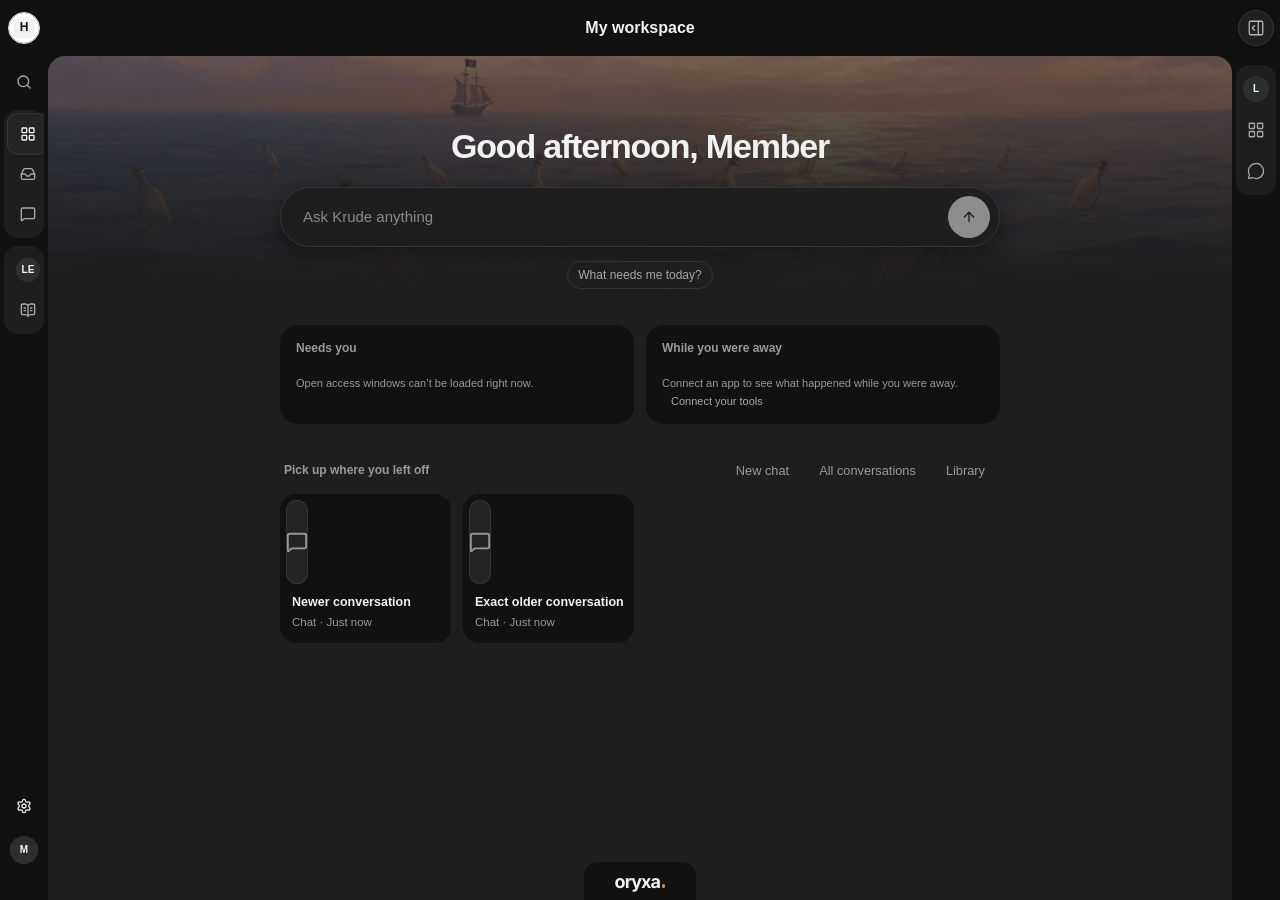
Test case: Home's public primary-chat integration › clears selected chat activity and panel draft when viewer pending changes
Click the button "Exact older conversation Chat · Just now" at (548, 569), box left=463, top=494, right=634, bottom=643
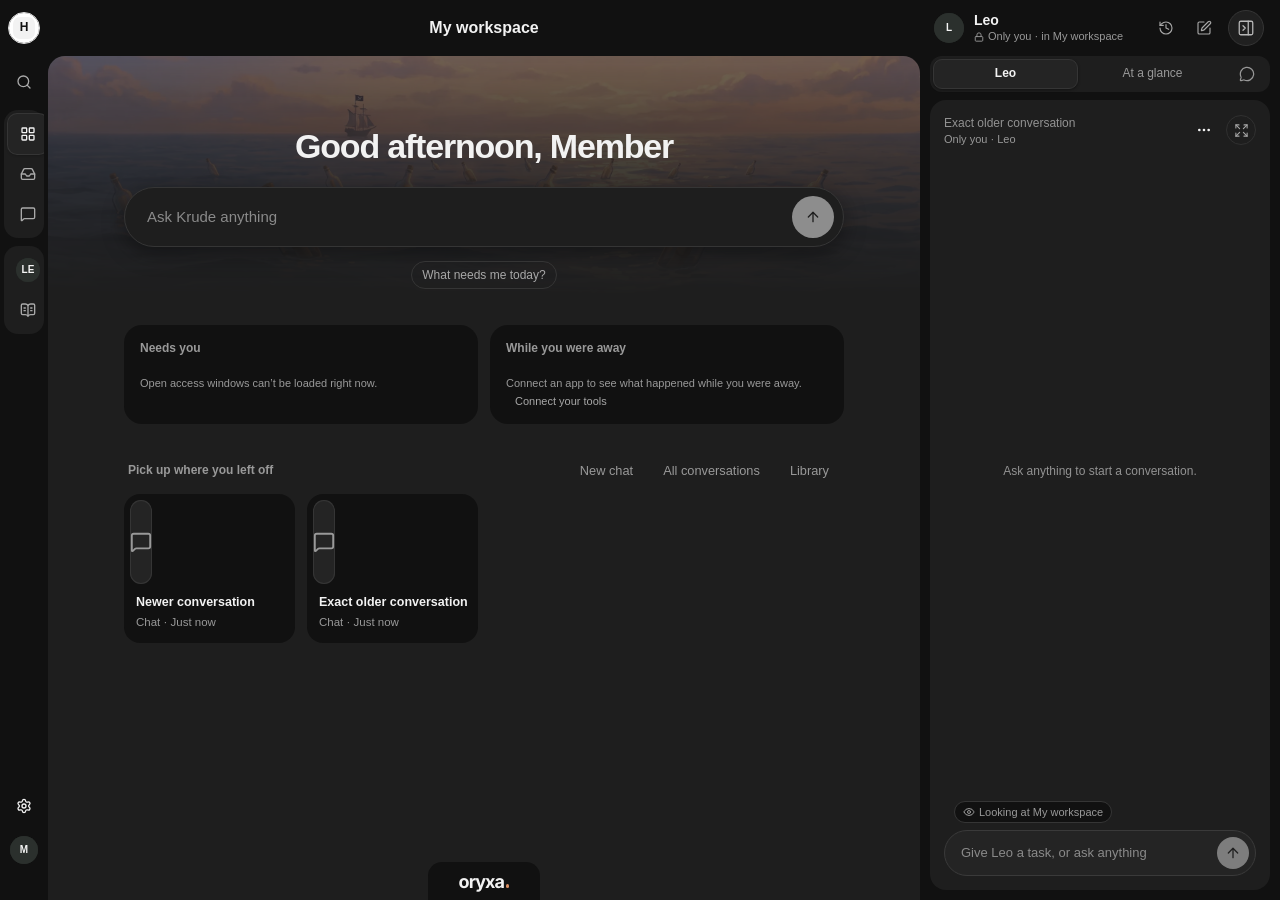
Type "Member's private panel draft" into the text box named "Message Leo" at (1085, 853), box left=961, top=838, right=1209, bottom=868
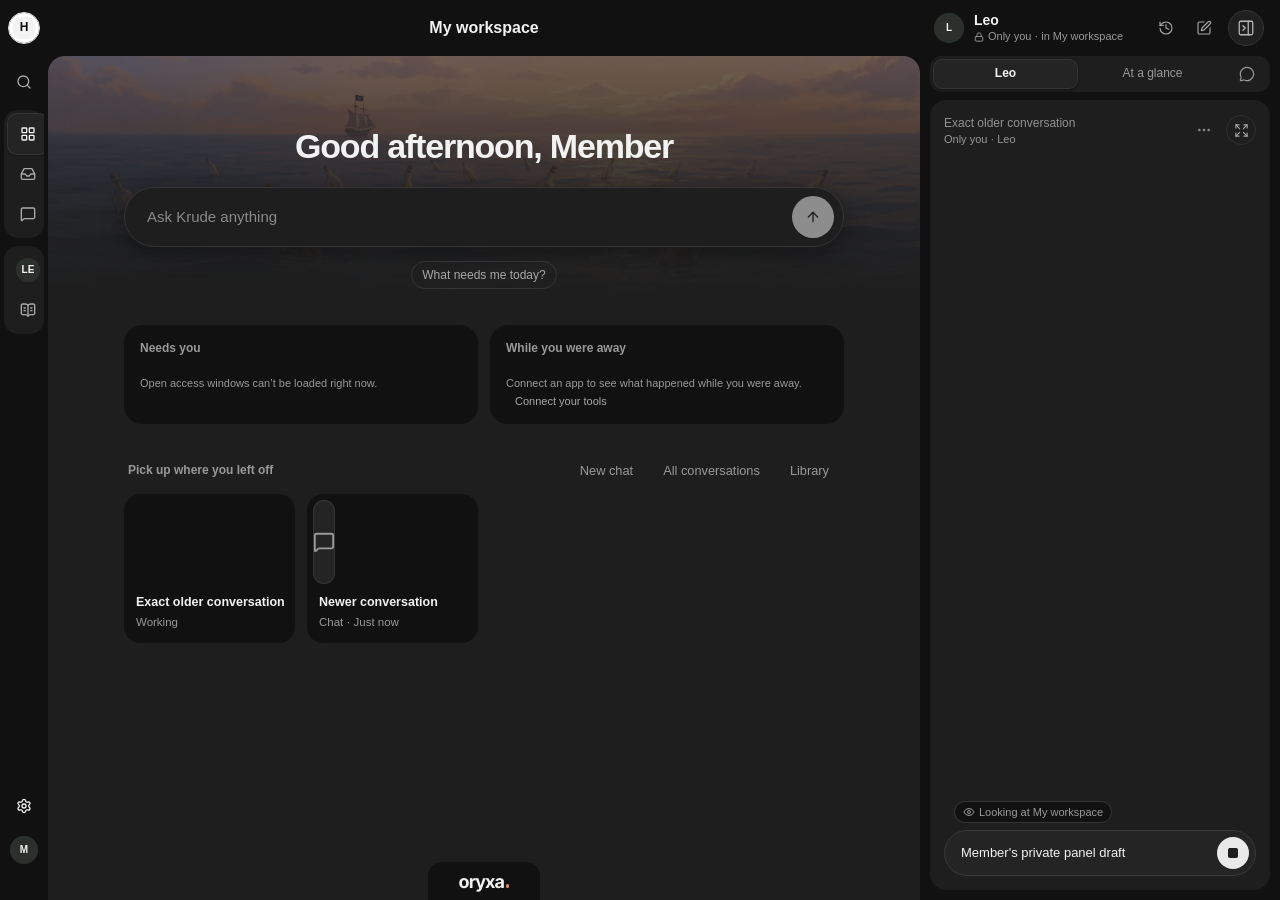
Now the text "Working" is shown, box left=136, top=616, right=178, bottom=628
